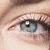eye: (22, 21, 37, 32)
